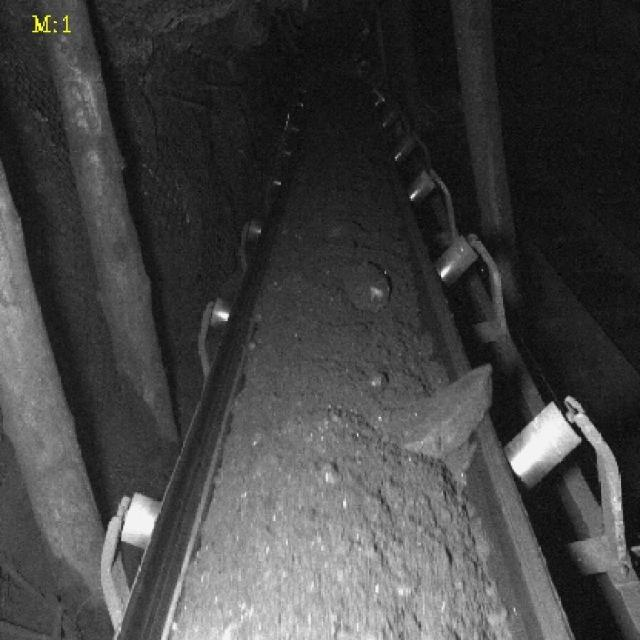large_sized_coal: (397, 364, 495, 458)
